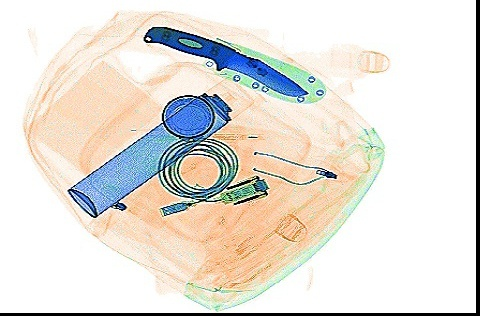knife: (142, 25, 325, 103)
pressure: (66, 75, 253, 218)
